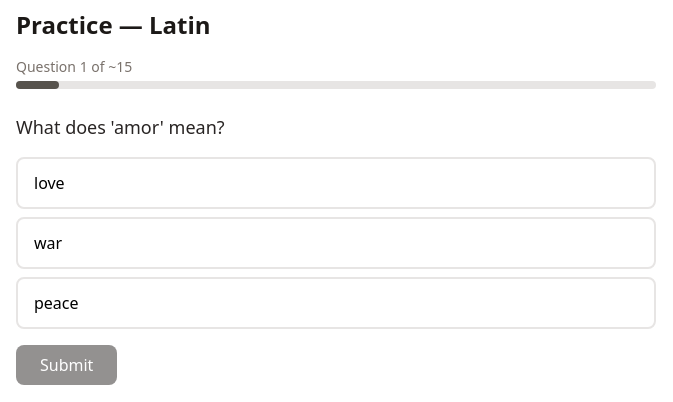
Test case: PracticeSessionPage › submits answer and shows feedback
Expected: the text "What does 'amor' mean?" is shown, 16,115 -> 225,139
Step 1. Click the button "love" → click(49, 183), box 16,157 -> 656,209
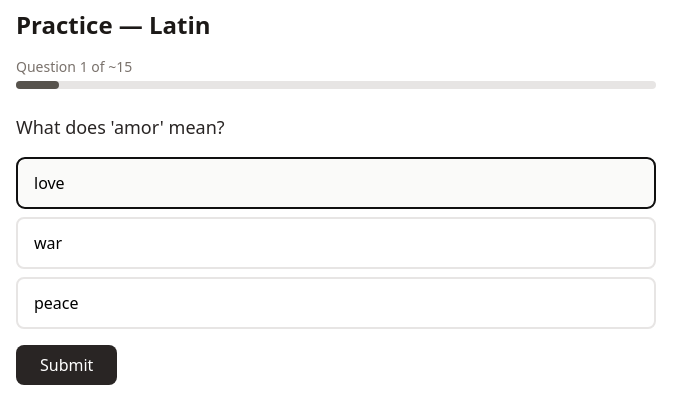
Step 2. Click the button "Submit" → click(67, 365), box 16,345 -> 117,385
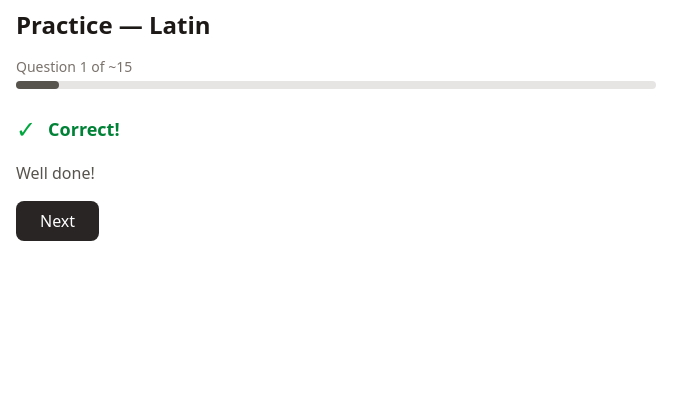
Expected: the text "Correct!" is shown, 48,115 -> 120,143
Expected: the text "Well done!" is shown, 16,162 -> 95,184
